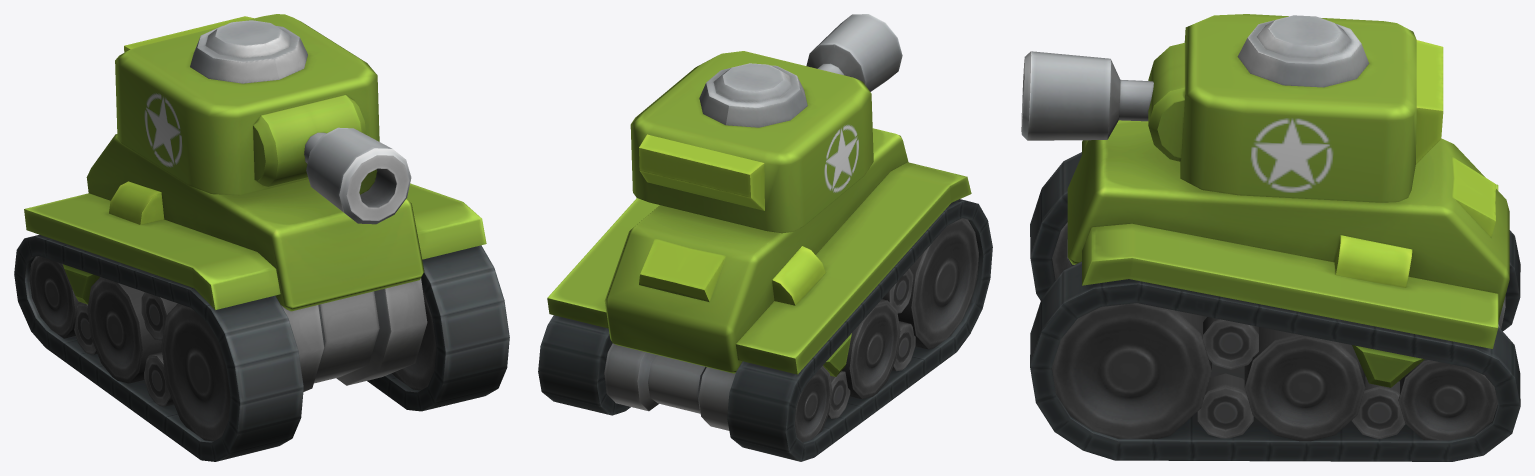
File: tank_green.fbx
3 renders of one model, left to right at view 1: azimuth 30°, elevation 25°; view 2: azimuth 150°, elevation 25°; view 3: azimuth 270°, elevation 25°, orthographic. The views are drawn at different scales.
Visible parts, largest first — view 1: tank_green; view 2: tank_green; view 3: tank_green.
Boxes of the visible parts, x1=… form: tank_green: x1=14, y1=14, x2=509, y2=461; tank_green: x1=538, y1=14, x2=992, y2=461; tank_green: x1=1021, y1=14, x2=1520, y2=461.
Size of the model in its own units: 0.833 by 0.9782 by 1.22.
